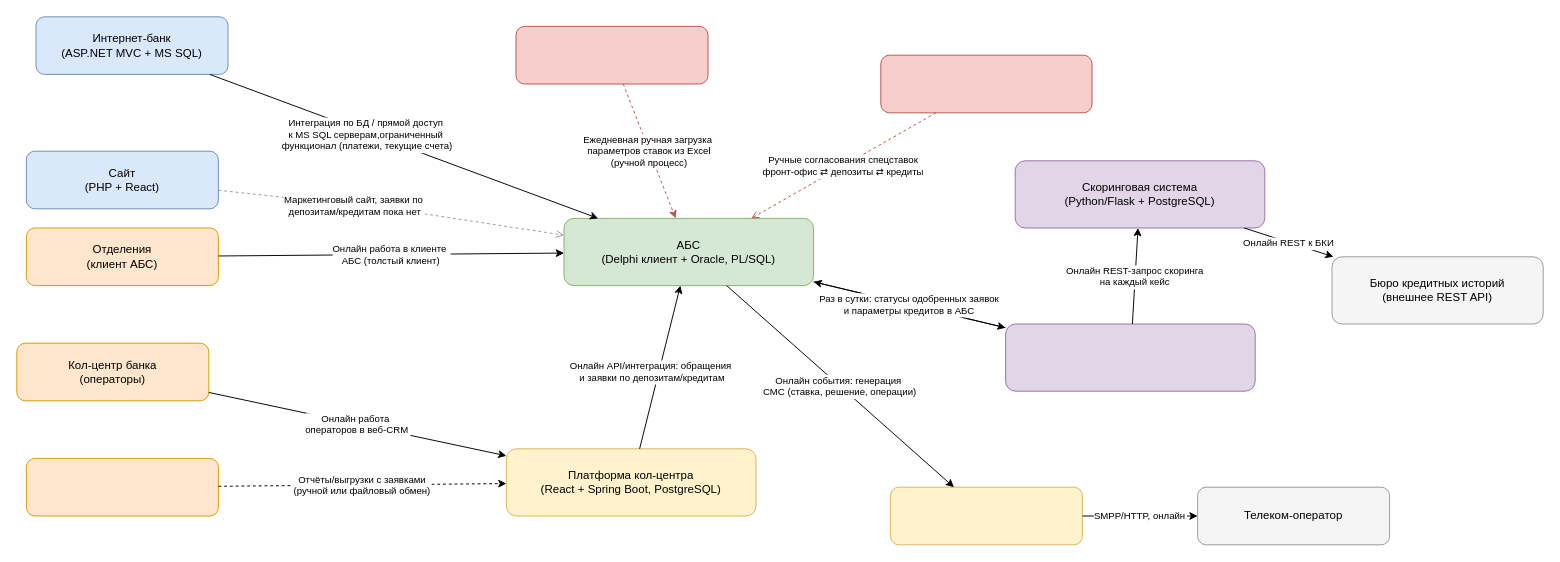
This 1560x562 diagram has some shape labels left out. The shapes that lost their labels are listed below. From the top down, each one's centre as x and y in pixels, then its label:
(x=611, y=54): Excel-калькуляторы депозитных ставок
(x=986, y=83): E-mail обмен (фронт ⇄ депозиты ⇄ кредиты)
(x=1130, y=357): Кредитный конвейер (Camunda BPM + Oracle)
(x=121, y=486): Партнёрский кол-центр
(x=985, y=515): СМС-шлюз банка
